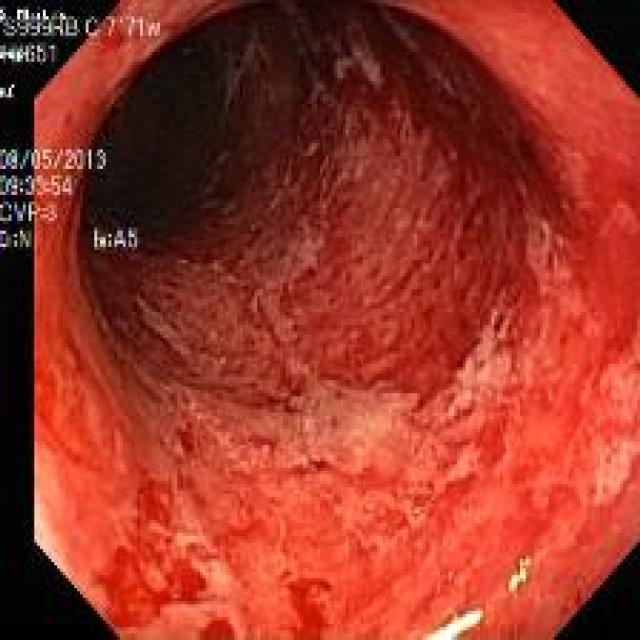ulcerative-colitis-grade-3: (35, 3, 638, 639)
